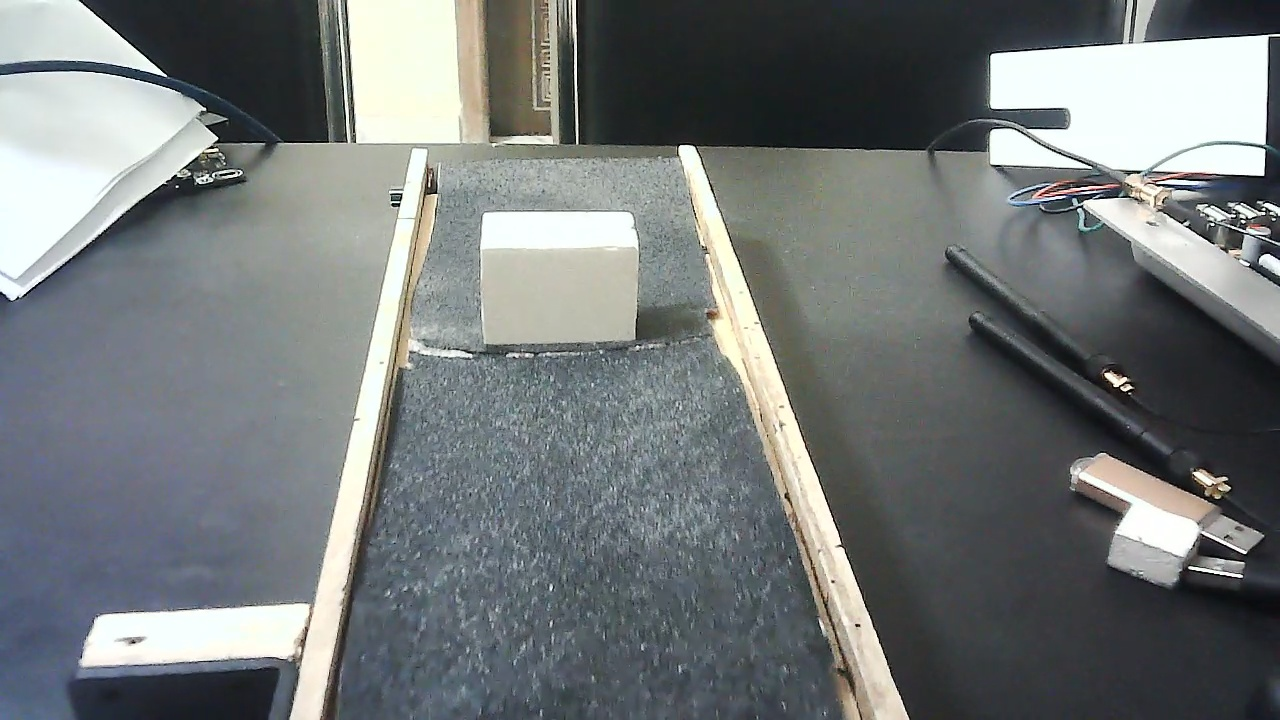BIG: (481, 200, 640, 359)
